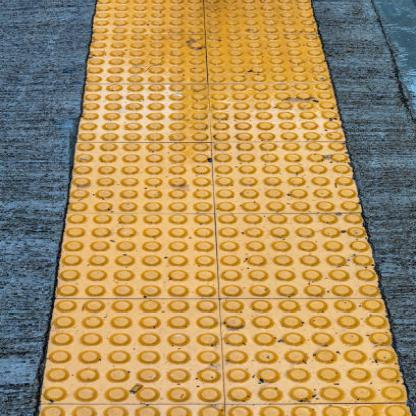podotacti: (35, 1, 412, 414)
